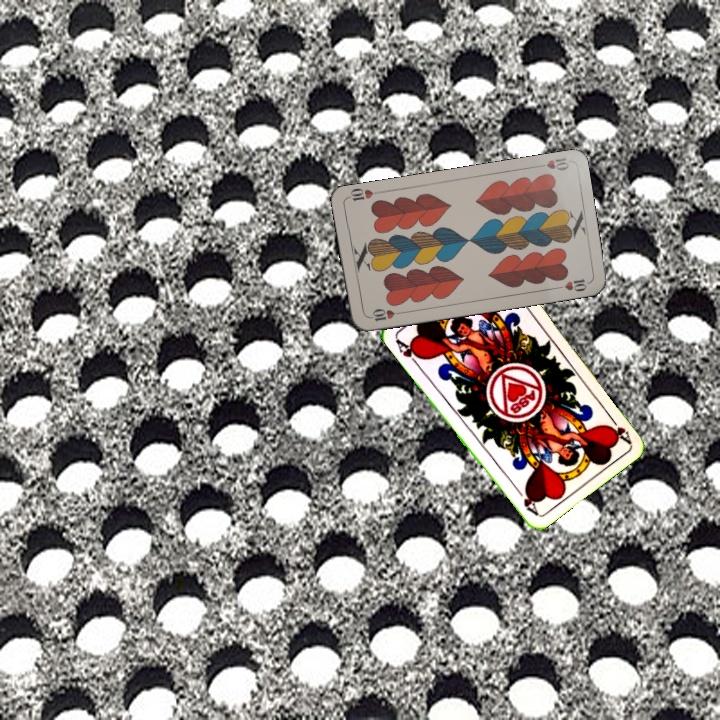H10: (531, 153, 571, 173), (364, 305, 405, 324)
HA: (391, 333, 426, 368), (603, 410, 633, 445)
